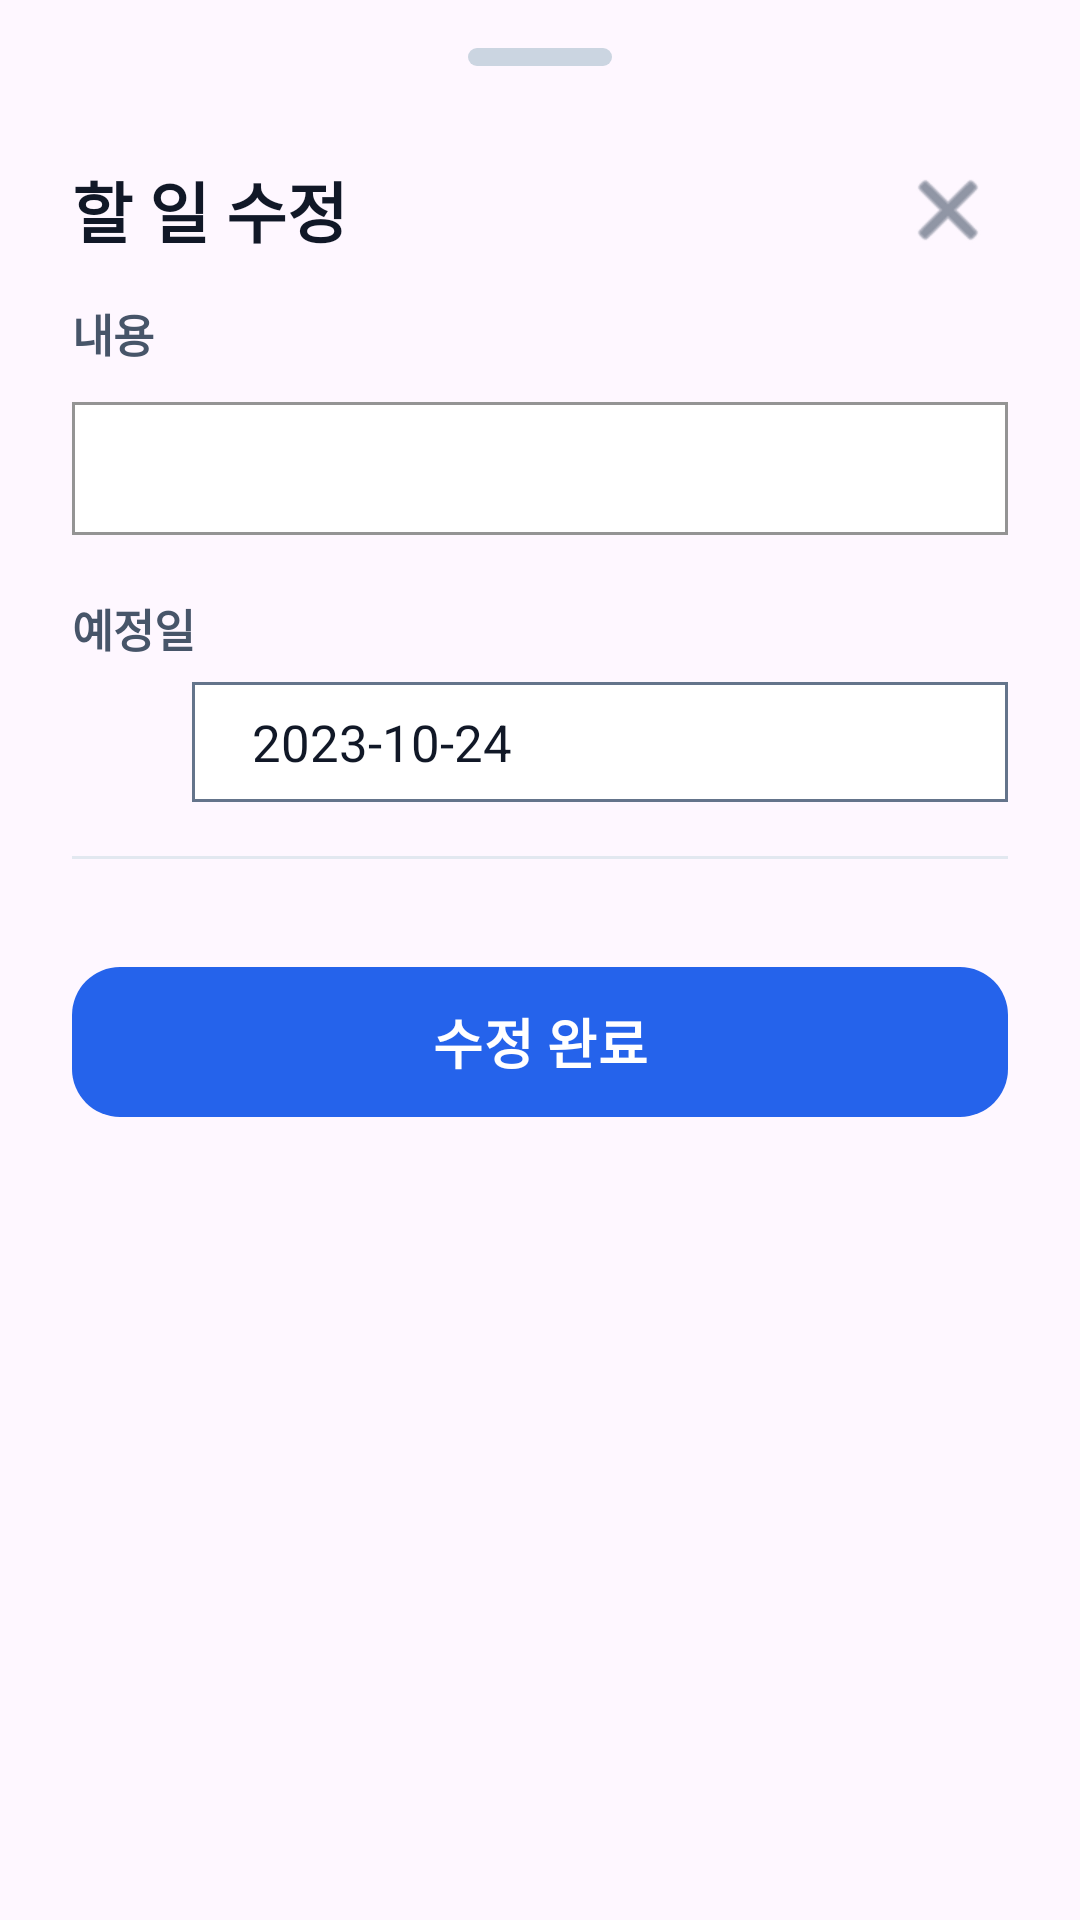

Screen size 1080px×1920px. Icon name, then its box in pixels as [x1=x1, y1=y1, x2=x2, y2=y2]:
닫기: [x1=918, y1=180, x2=978, y2=240]
